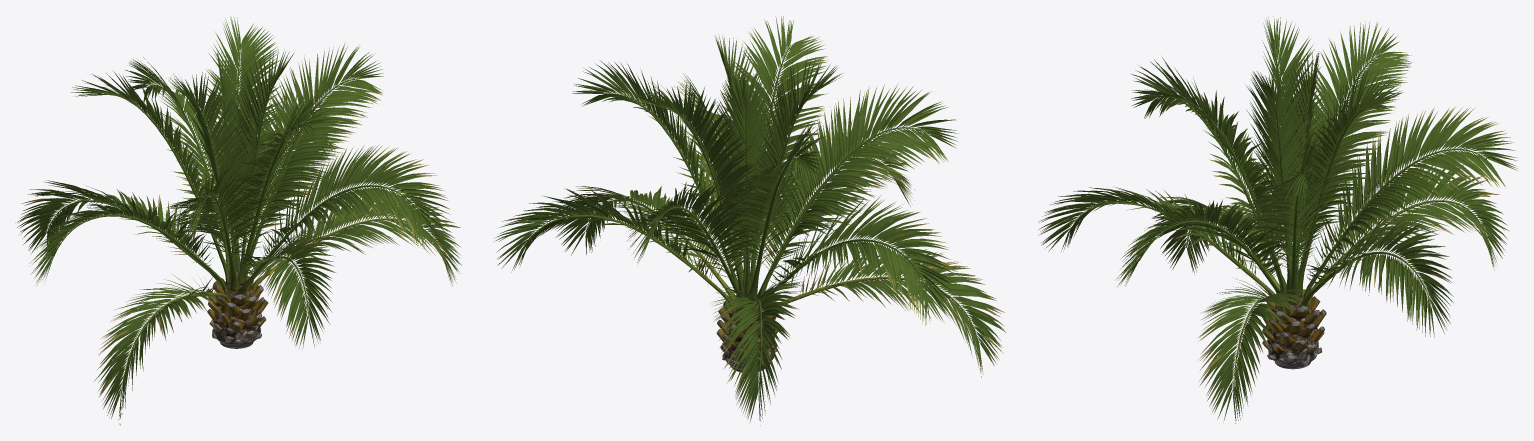
The model's file is palm.glb.
3 views of the same model, side by side, from view 1: azimuth 30°, elevation 25°; view 2: azimuth 150°, elevation 25°; view 3: azimuth 270°, elevation 25° (orthographic). The views are drawn at different scales.
Visible parts, largest first — view 1: Phoenix_canariensis_HD_Phoenix leaflet young_0, Phoenix_canariensis_HD_Phoenix leaflet average_0, Phoenix_canariensis_HD_Phoenix leaf stk_0, Phoenix_canariensis_HD_Phoenix leaflet average 02_0, Phoenix_canariensis_HD_Phoenix crownshaft RT_0, Phoenix_canariensis_HD_Phoenix dead stk 07_0, Phoenix_canariensis_HD_Phoenix leaf stk 03_0, Phoenix_canariensis_HD_Phoenix leaf stk 04_0; view 2: Phoenix_canariensis_HD_Phoenix leaflet young_0, Phoenix_canariensis_HD_Phoenix leaflet average_0, Phoenix_canariensis_HD_Phoenix leaf stk_0, Phoenix_canariensis_HD_Phoenix leaflet average 02_0, Phoenix_canariensis_HD_Phoenix leaf stk 04_0, Phoenix_canariensis_HD_Phoenix leaf stk 03_0, Phoenix_canariensis_HD_Phoenix crownshaft RT_0; view 3: Phoenix_canariensis_HD_Phoenix leaflet young_0, Phoenix_canariensis_HD_Phoenix leaflet average_0, Phoenix_canariensis_HD_Phoenix leaf stk_0, Phoenix_canariensis_HD_Phoenix leaflet average 02_0, Phoenix_canariensis_HD_Phoenix leaf stk 04_0, Phoenix_canariensis_HD_Phoenix crownshaft RT_0, Phoenix_canariensis_HD_Phoenix dead stk 07_0, Phoenix_canariensis_HD_Phoenix leaf stk 03_0.
Boxes of the visible parts, x1,y1,x2,y2 form: Phoenix_canariensis_HD_Phoenix leaflet young_0: [29, 16, 450, 285]; Phoenix_canariensis_HD_Phoenix leaflet average_0: [17, 88, 461, 425]; Phoenix_canariensis_HD_Phoenix leaf stk_0: [53, 44, 420, 292]; Phoenix_canariensis_HD_Phoenix leaflet average 02_0: [21, 96, 451, 416]; Phoenix_canariensis_HD_Phoenix crownshaft RT_0: [212, 271, 260, 348]; Phoenix_canariensis_HD_Phoenix dead stk 07_0: [207, 276, 268, 316]; Phoenix_canariensis_HD_Phoenix leaf stk 03_0: [122, 218, 428, 383]; Phoenix_canariensis_HD_Phoenix leaf stk 04_0: [47, 132, 308, 318]; Phoenix_canariensis_HD_Phoenix leaflet young_0: [572, 16, 958, 325]; Phoenix_canariensis_HD_Phoenix leaflet average_0: [494, 85, 1005, 425]; Phoenix_canariensis_HD_Phoenix leaf stk_0: [603, 45, 927, 312]; Phoenix_canariensis_HD_Phoenix leaflet average 02_0: [502, 123, 1003, 391]; Phoenix_canariensis_HD_Phoenix leaf stk 04_0: [524, 158, 879, 390]; Phoenix_canariensis_HD_Phoenix leaf stk 03_0: [586, 199, 979, 342]; Phoenix_canariensis_HD_Phoenix crownshaft RT_0: [722, 297, 775, 372]; Phoenix_canariensis_HD_Phoenix leaflet young_0: [1115, 16, 1517, 286]; Phoenix_canariensis_HD_Phoenix leaflet average_0: [1038, 128, 1509, 423]; Phoenix_canariensis_HD_Phoenix leaf stk_0: [1139, 52, 1486, 309]; Phoenix_canariensis_HD_Phoenix leaflet average 02_0: [1044, 163, 1499, 380]; Phoenix_canariensis_HD_Phoenix leaf stk 04_0: [1069, 200, 1480, 307]; Phoenix_canariensis_HD_Phoenix crownshaft RT_0: [1267, 293, 1318, 369]; Phoenix_canariensis_HD_Phoenix dead stk 07_0: [1266, 289, 1325, 346]; Phoenix_canariensis_HD_Phoenix leaf stk 03_0: [1186, 209, 1292, 390].
Bounding box in the file's own units: 3.12 × 2.17 × 2.98.
15 materials, 15 textured.
